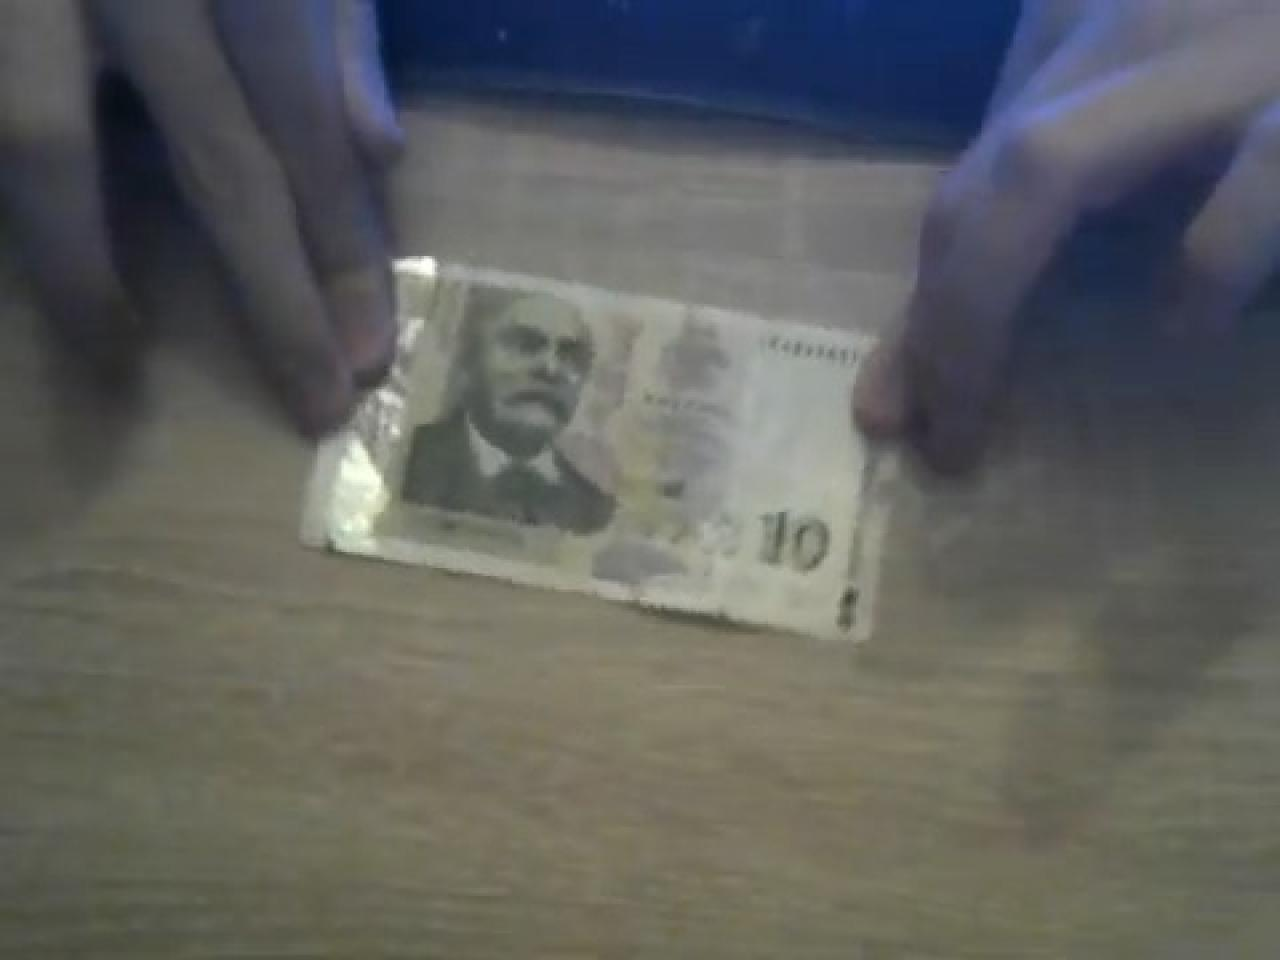10leva: (304, 259, 885, 645)
